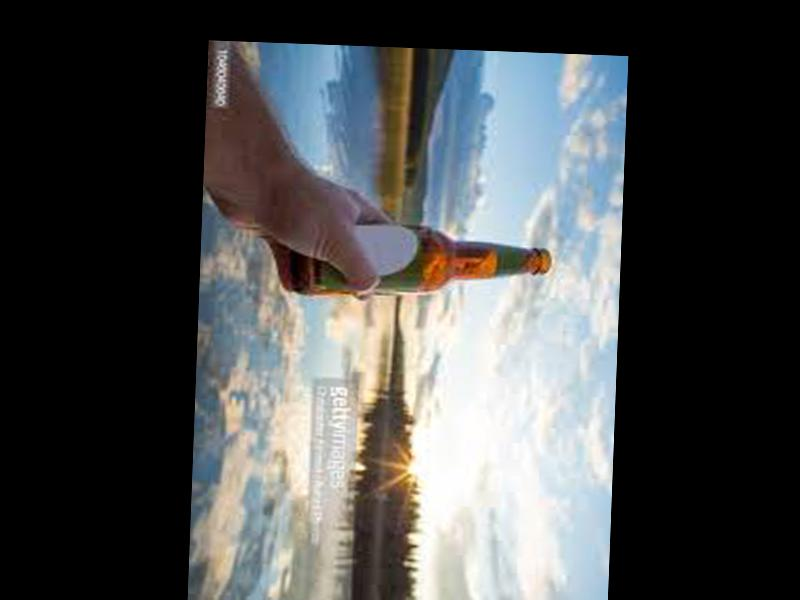Beer: (292, 219, 552, 306)
